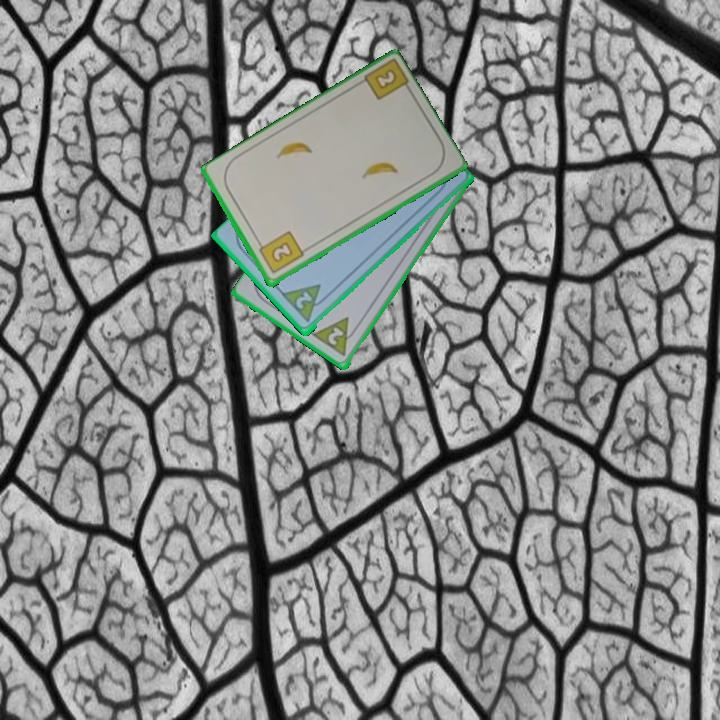2b: (254, 228, 306, 277), (371, 66, 400, 93)
2p: (310, 314, 363, 360), (292, 288, 315, 312)
